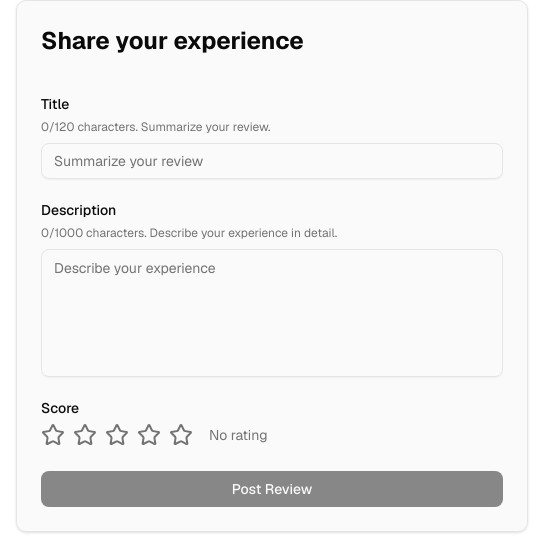
Test: CreateReviewForm › updates character count as user types
Type "abc" into the field labelled "Title" at [272, 161], box [41,143,503,179]
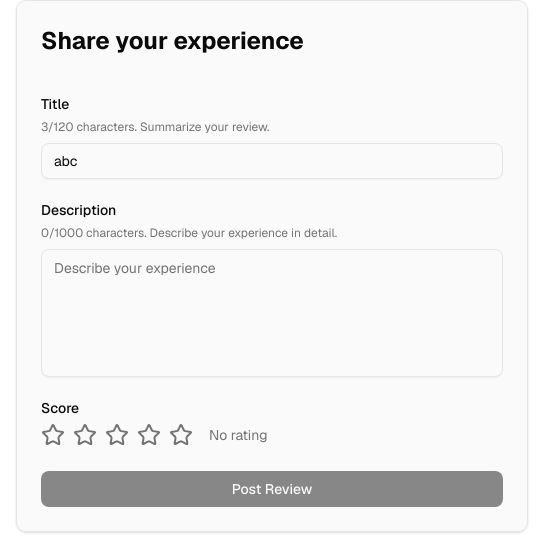
Type "xyz" into the text box labelled "Description" at [272, 313], box [41,249,503,377]
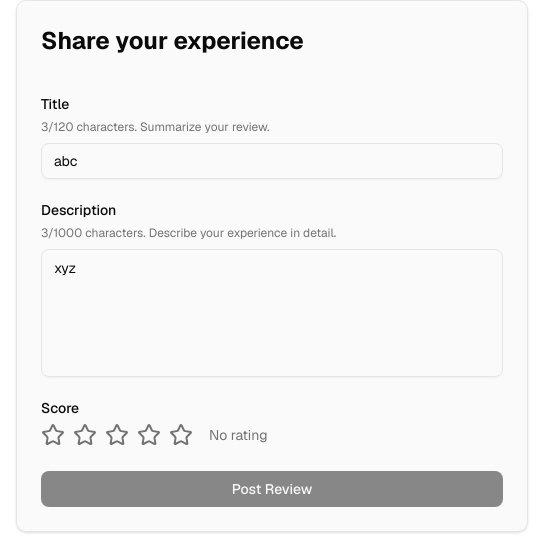
Expected: the text "3/120 characters. Summarize your review." is shown, [41,119,270,135]
Expected: the text "3/1000 characters. Describe your experience in detail." is shown, [41,225,336,241]
